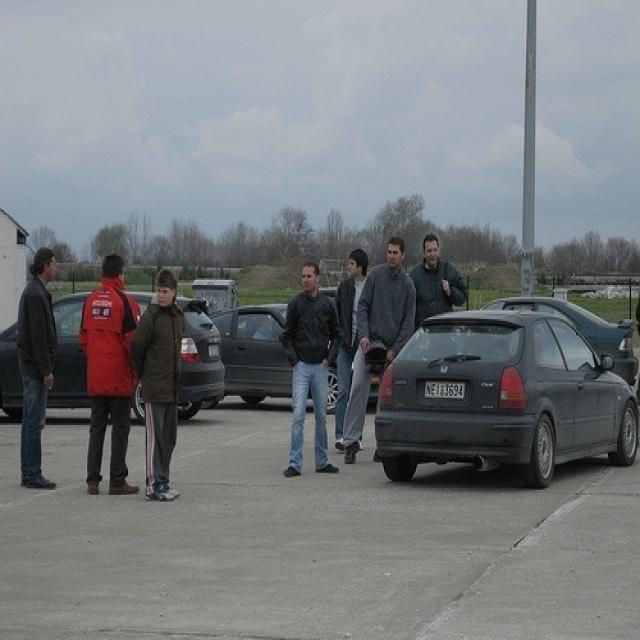non-fight: (343, 232, 417, 468), (132, 264, 194, 502), (279, 256, 341, 480), (13, 244, 59, 492)
